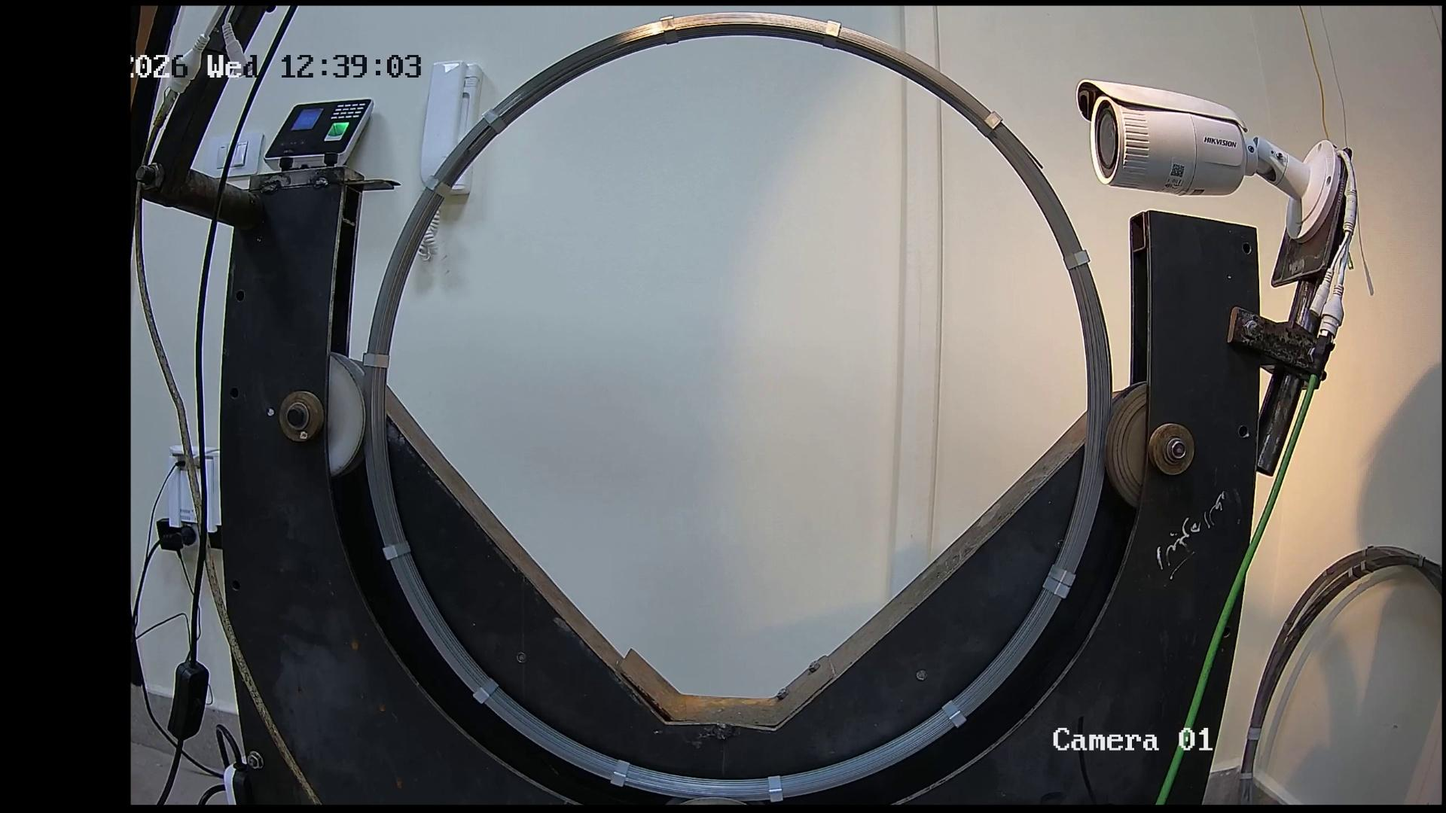clamp: (472, 677, 499, 704), (977, 111, 1003, 138), (942, 700, 967, 728), (481, 109, 507, 134), (424, 175, 451, 198), (1043, 576, 1070, 599), (1048, 564, 1076, 586), (660, 14, 679, 45), (382, 540, 411, 560), (823, 19, 842, 49), (1063, 249, 1090, 270), (610, 759, 630, 787), (767, 775, 783, 802), (363, 352, 389, 368)
